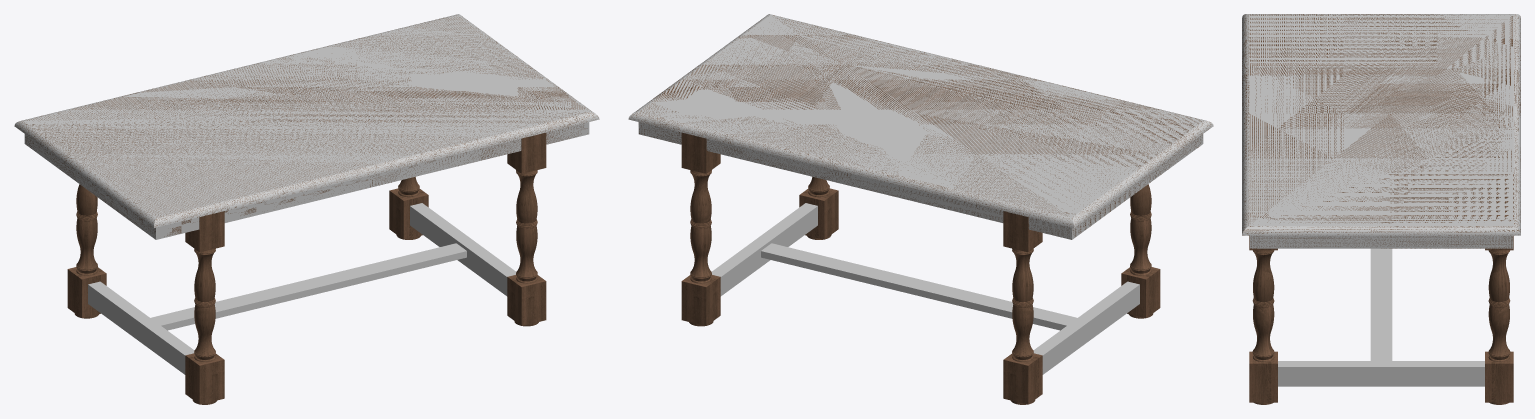
The model's file is French_Baluster_Dining.dae.
The picture shows the model from 3 angles, left to right: view 1: azimuth 30°, elevation 25°; view 2: azimuth 150°, elevation 25°; view 3: azimuth 270°, elevation 25°; orthographic projection.
Visible parts, largest first — view 1: group_7 (×2), group_1 (×4), Group_49 (×6), group_5, group_6, group_4, group_2 (×2); view 2: group_7 (×2), group_1 (×4), Group_49 (×6), group_5, group_6, group_4, group_2 (×2); view 3: group_7 (×2), group_4, Group_49 (×4), group_1 (×2), group_5.
Part boxes in pixels (x1,y1,x2,y2): group_7 (×2): (14, 14, 599, 239); group_1 (×4): (67, 188, 546, 404); Group_49 (×6): (76, 170, 537, 361); group_5: (151, 243, 466, 330); group_6: (88, 281, 194, 374); group_4: (410, 203, 516, 296); group_2 (×2): (185, 132, 546, 252); group_7 (×2): (628, 14, 1213, 239); group_1 (×4): (681, 188, 1160, 404); Group_49 (×6): (690, 170, 1151, 361); group_5: (761, 243, 1076, 330); group_6: (1033, 281, 1139, 374); group_4: (711, 203, 817, 296); group_2 (×2): (681, 132, 1042, 252); group_7 (×2): (1242, 14, 1520, 248); group_4: (1278, 361, 1484, 386); Group_49 (×4): (1252, 250, 1510, 361); group_1 (×2): (1249, 351, 1513, 402); group_5: (1370, 248, 1392, 360).
Bounding box in the file's own units: 72 × 39 × 31.
